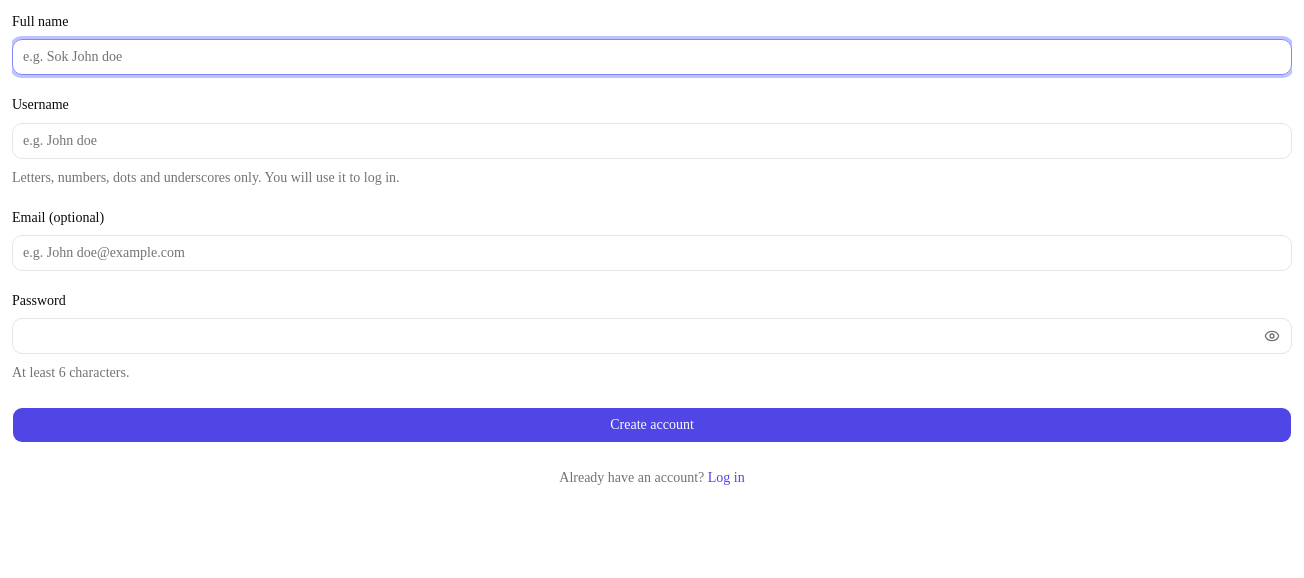
Scenario: RegisterForm › validates username format, email and password length
Type "Sok John doe" into the field labelled "Full name". click: {"x": 652, "y": 57}
box: x1=12 y1=39 x2=1292 y2=75
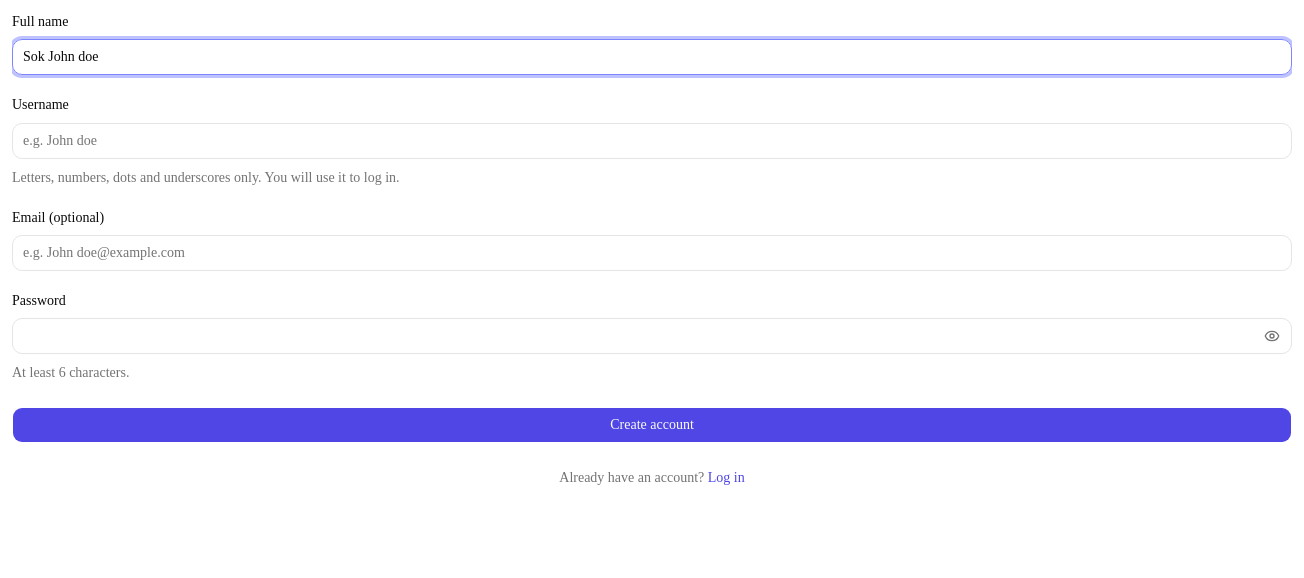
Type "sok John doe" into the field labelled "Username". click: {"x": 652, "y": 140}
box: x1=12 y1=122 x2=1292 y2=158
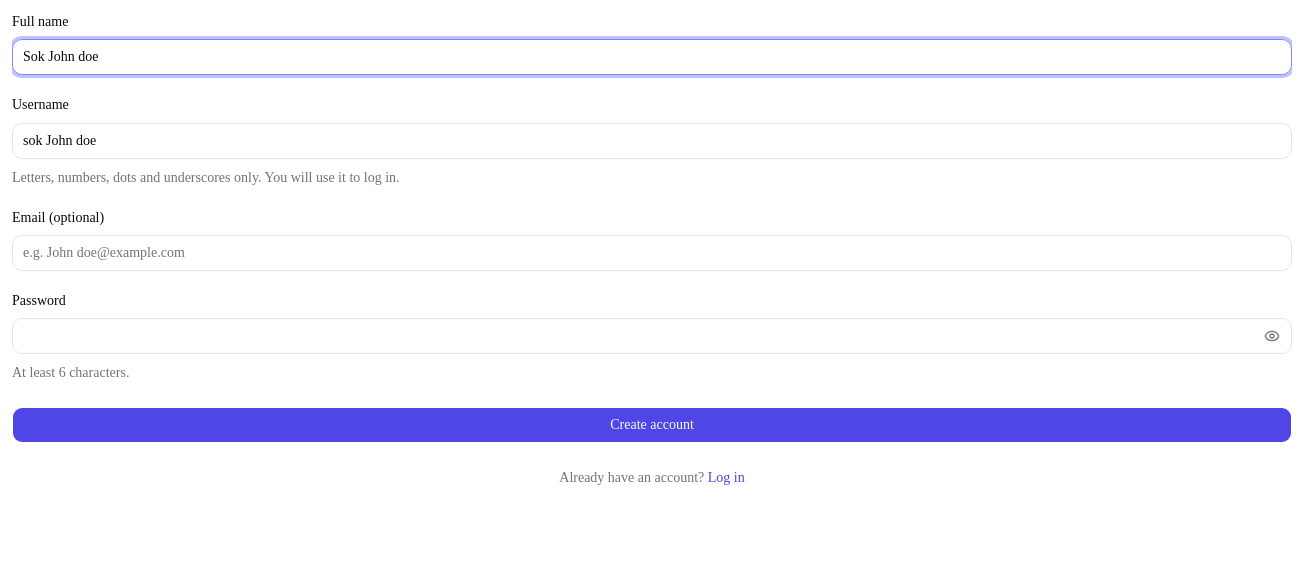
Type "not-an-email" into the field labelled "Email (optional)". click: {"x": 652, "y": 253}
box: x1=12 y1=235 x2=1292 y2=271
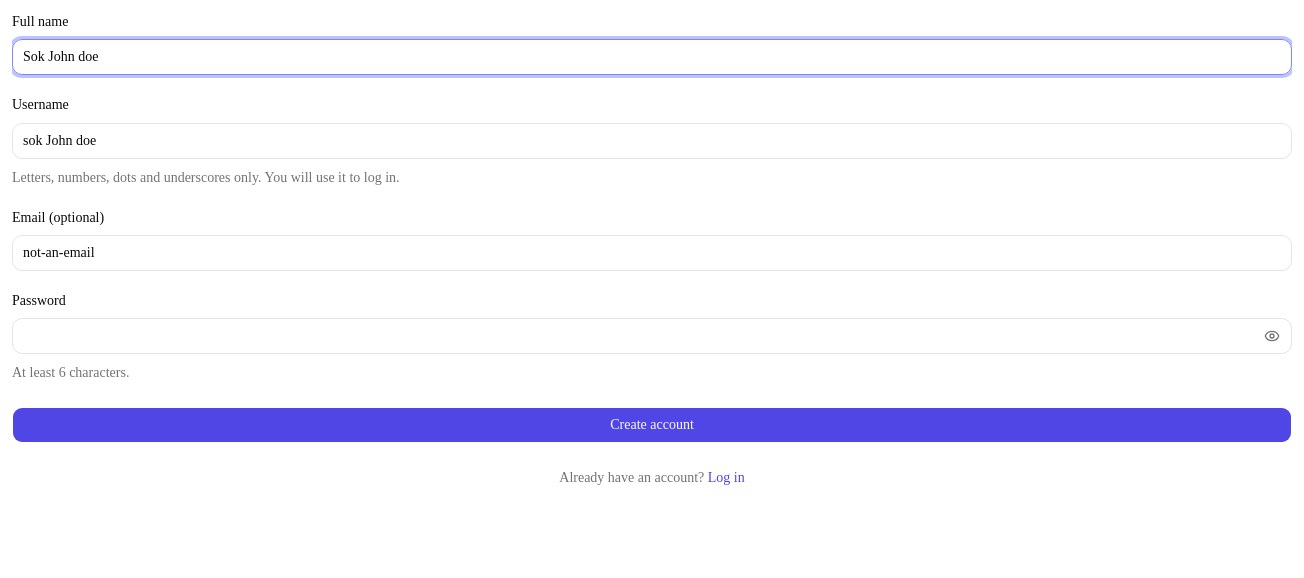
Type "abc" into the password field labelled "Password". click: {"x": 634, "y": 336}
box: x1=13 y1=319 x2=1256 y2=353
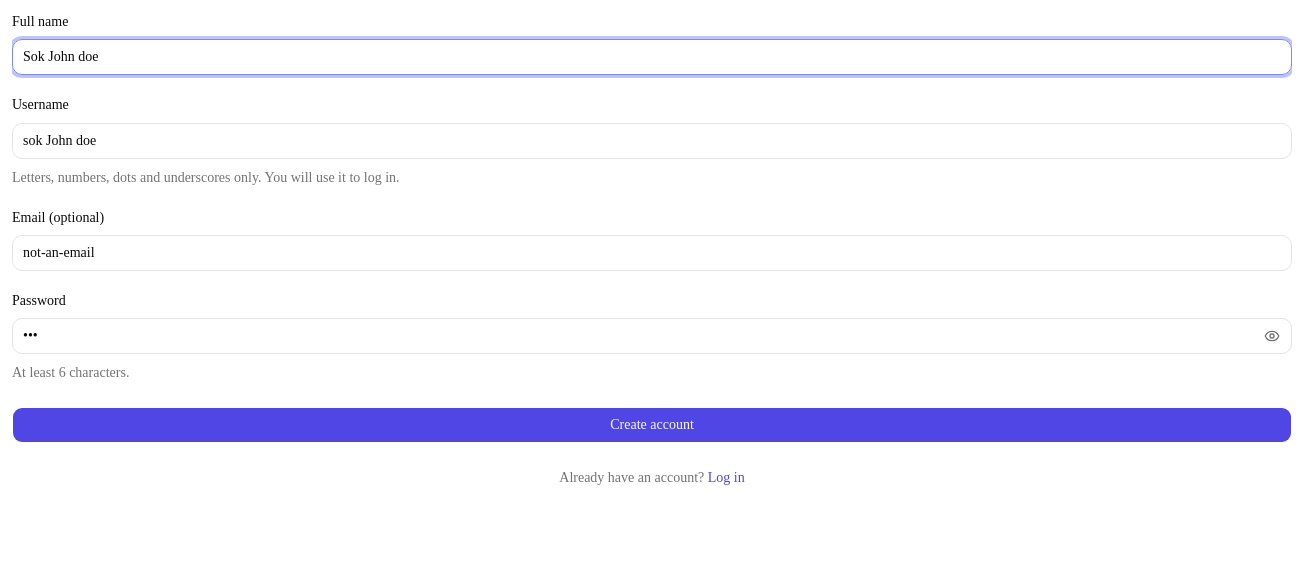
Click the button "Create account". click: {"x": 652, "y": 425}
box: x1=12 y1=407 x2=1292 y2=443
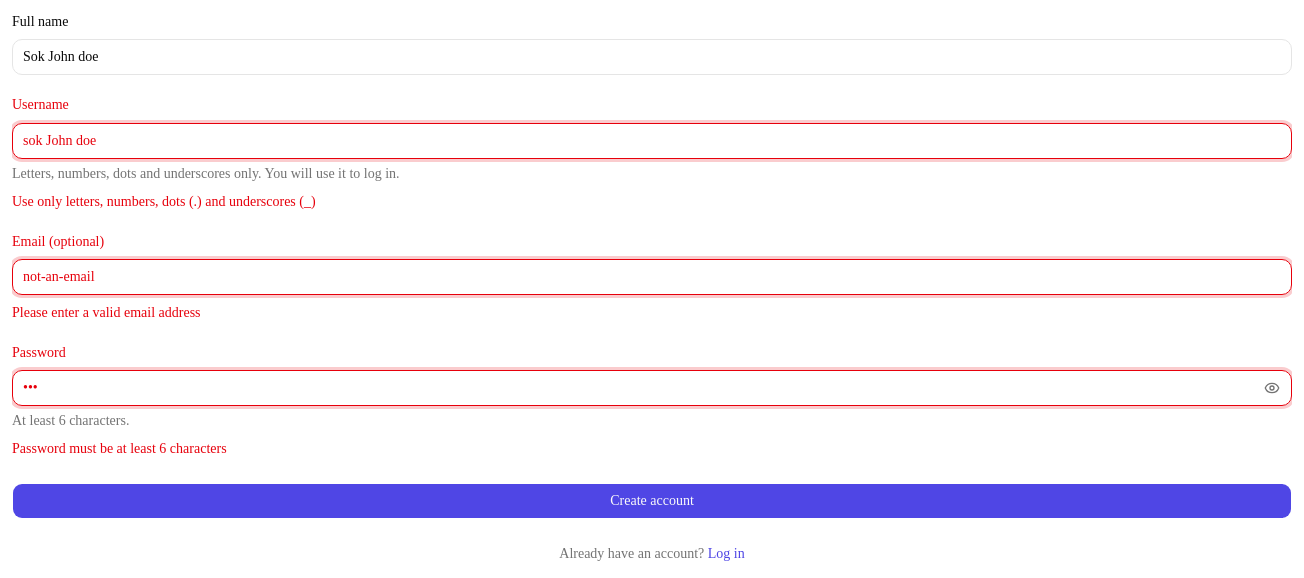
Check: the text "Use only letters, numbers, dots (.) and underscores (_)" is shown, box x1=12 y1=194 x2=316 y2=208
Check: the text "Please enter a valid email address" is shown, box x1=12 y1=305 x2=200 y2=320
Check: the text "Password must be at least 6 characters" is shown, box x1=12 y1=441 x2=227 y2=456
